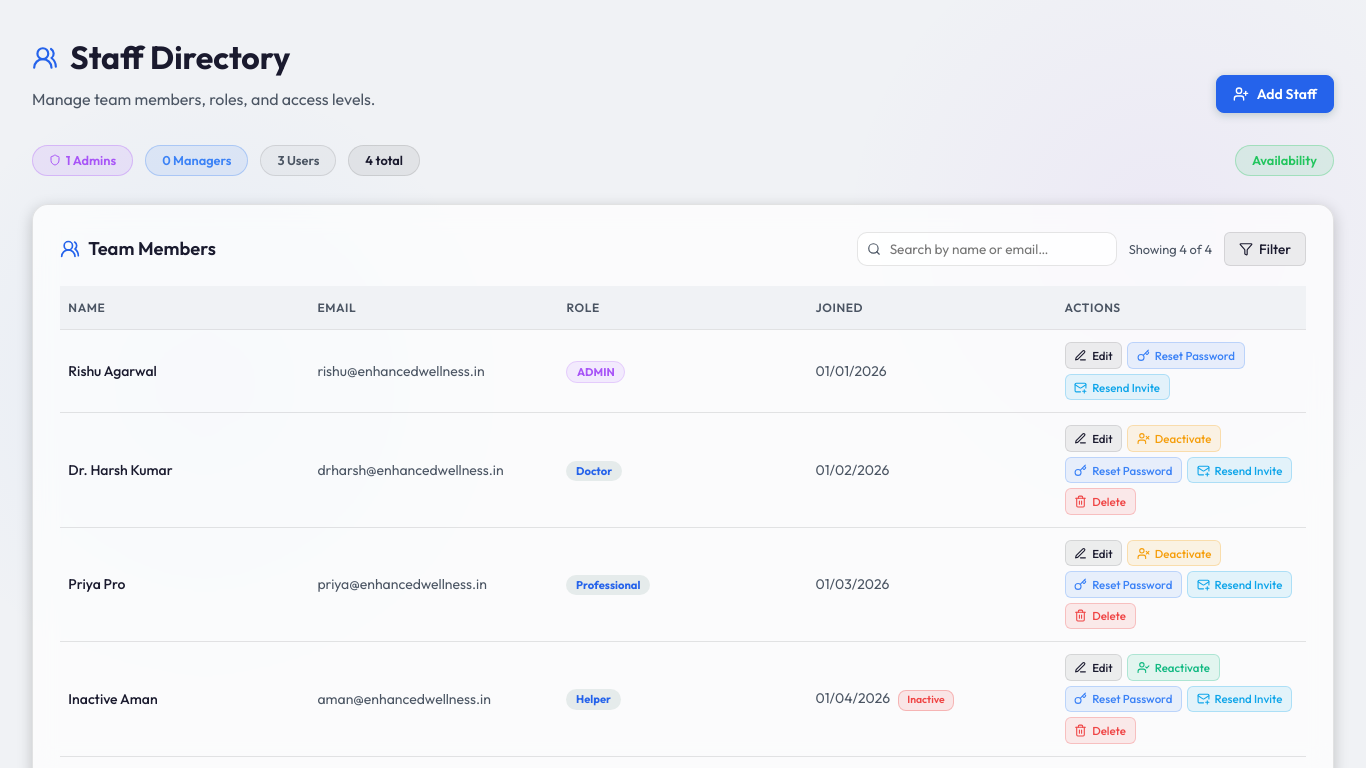
Test case: <Staff /> — list rendering + stats bar › filtering by USER hides the lone ADMIN row
Check: the text "Rishu Agarwal" is shown, box 60,330 -> 309,413
Click the button "3 Users" at [298, 160], box 260,145 -> 336,176
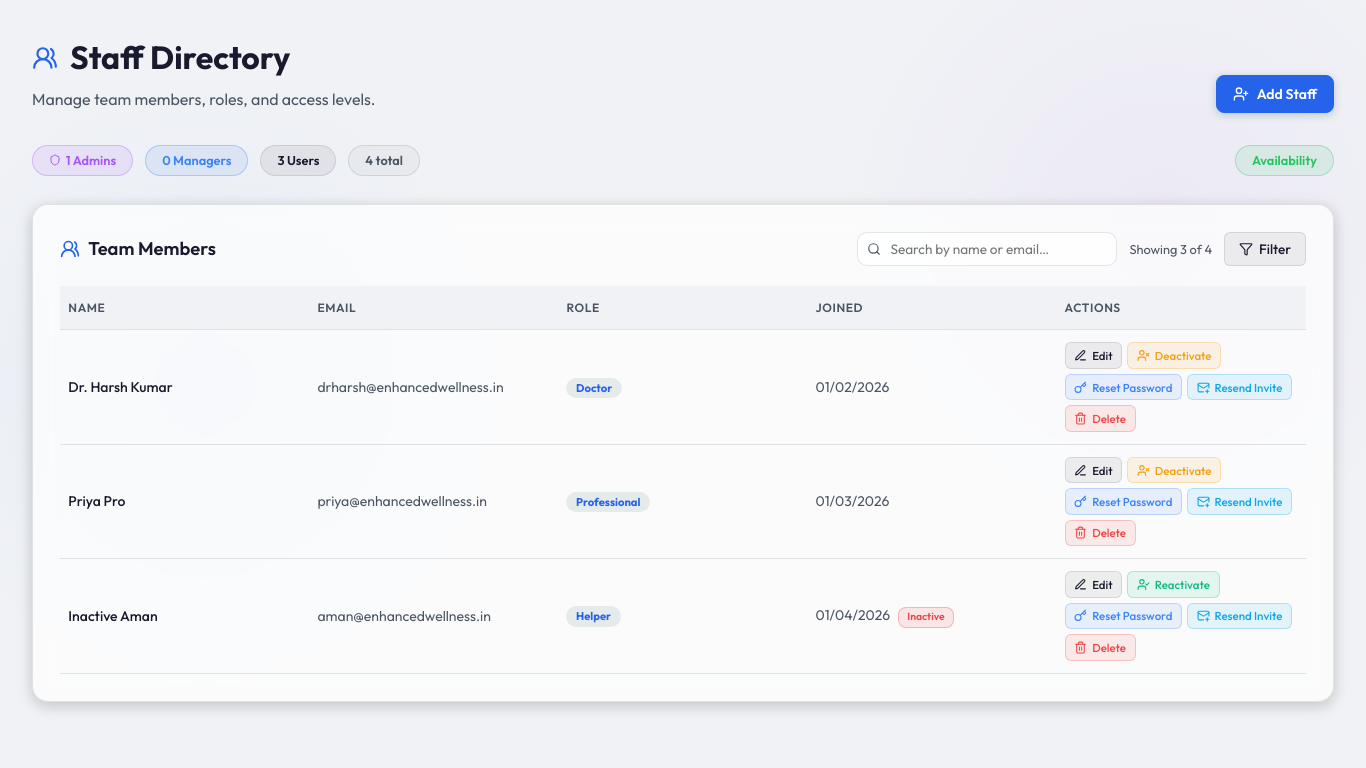
Check: the text "Dr. Harsh Kumar" is shown, box 60,330 -> 309,444
Check: the text "Rishu Agarwal" is gone
